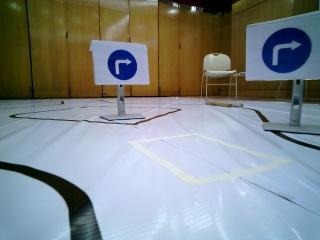right: (249, 25, 320, 76), (93, 39, 152, 84)
